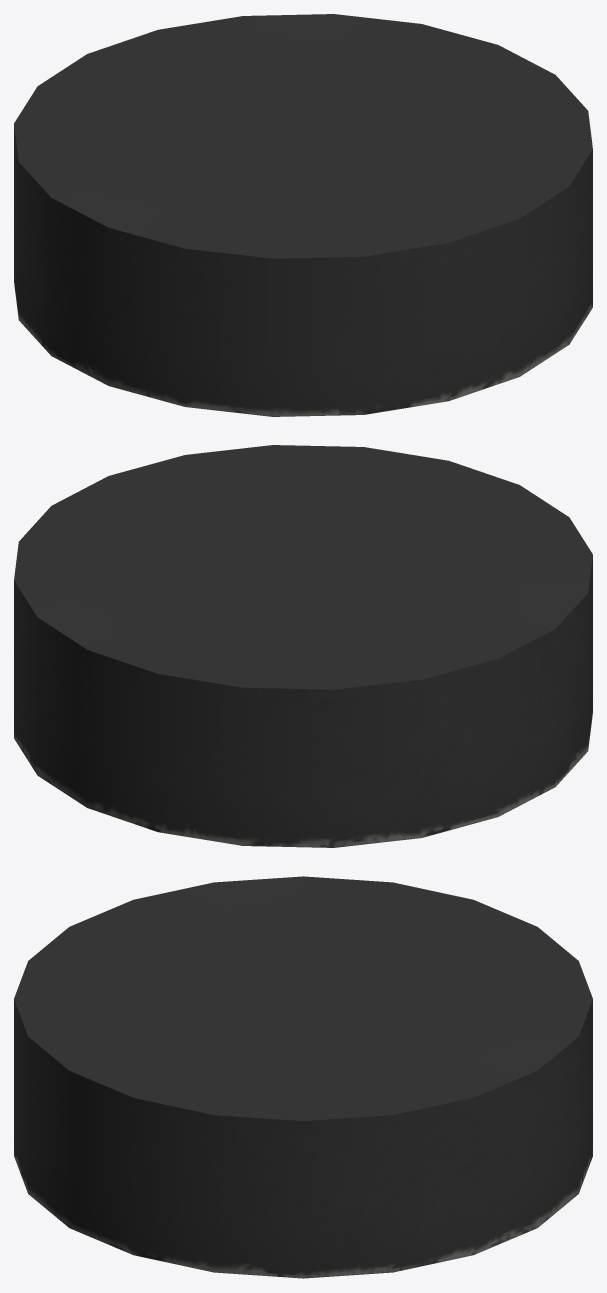
File: ceilinglightB.fbx
3 views of the same model, one above another, from view 1: azimuth 30°, elevation 25°; view 2: azimuth 150°, elevation 25°; view 3: azimuth 270°, elevation 25° (orthographic).
Visible parts, largest first — view 1: ceilinglightB; view 2: ceilinglightB; view 3: ceilinglightB.
Part boxes in pixels (x1,y1,x2,y2): ceilinglightB: (14, 14, 592, 416); ceilinglightB: (14, 445, 592, 847); ceilinglightB: (14, 876, 592, 1278).
Size of the model in its own units: 20 by 6 by 20.
Materials: 1 (1 with a texture image).
